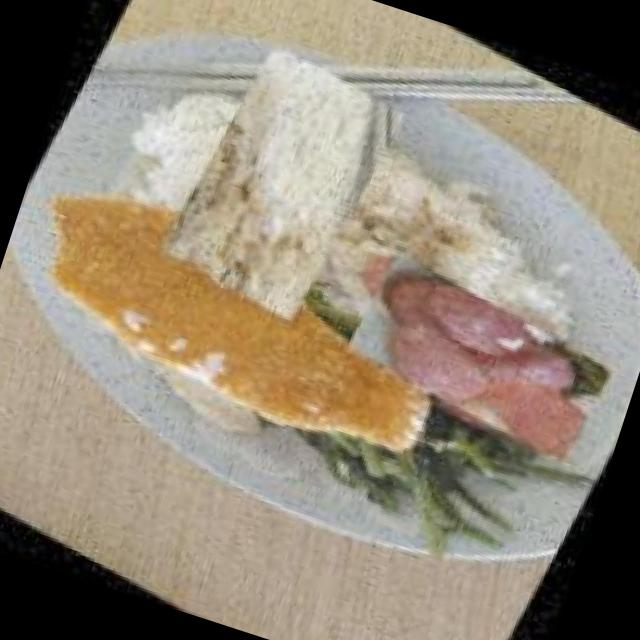chinese_sausage: (333, 248, 630, 474)
rice: (141, 40, 428, 327)
water_spinach: (360, 392, 530, 550)
